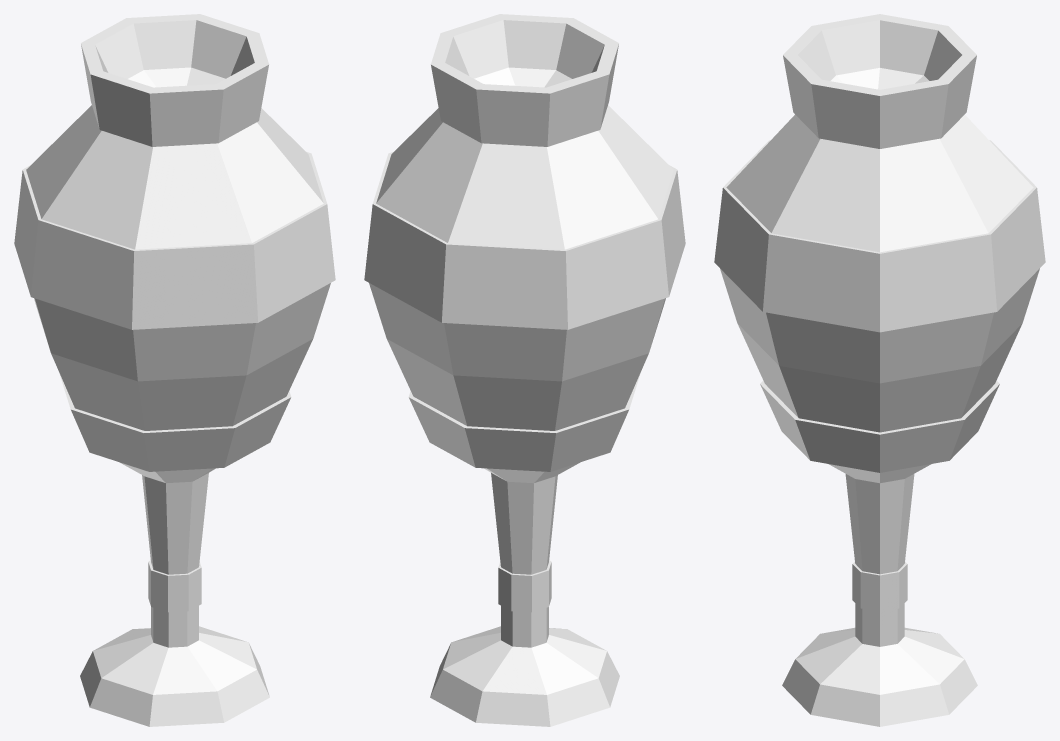
Rendered from Desertjar1.glb.
3 renders of one model, left to right at view 1: azimuth 30°, elevation 25°; view 2: azimuth 150°, elevation 25°; view 3: azimuth 270°, elevation 25°, orthographic.
Parts seen in each view (by area): view 1: DesertJar01; view 2: DesertJar01; view 3: DesertJar01.
Part boxes in pixels (x1=…): DesertJar01: x1=14, y1=14, x2=335, y2=726; DesertJar01: x1=364, y1=14, x2=685, y2=726; DesertJar01: x1=714, y1=14, x2=1045, y2=726.
Bounding box in the file's own units: 1.13 × 2.38 × 1.13.
1 material, 1 textured.
